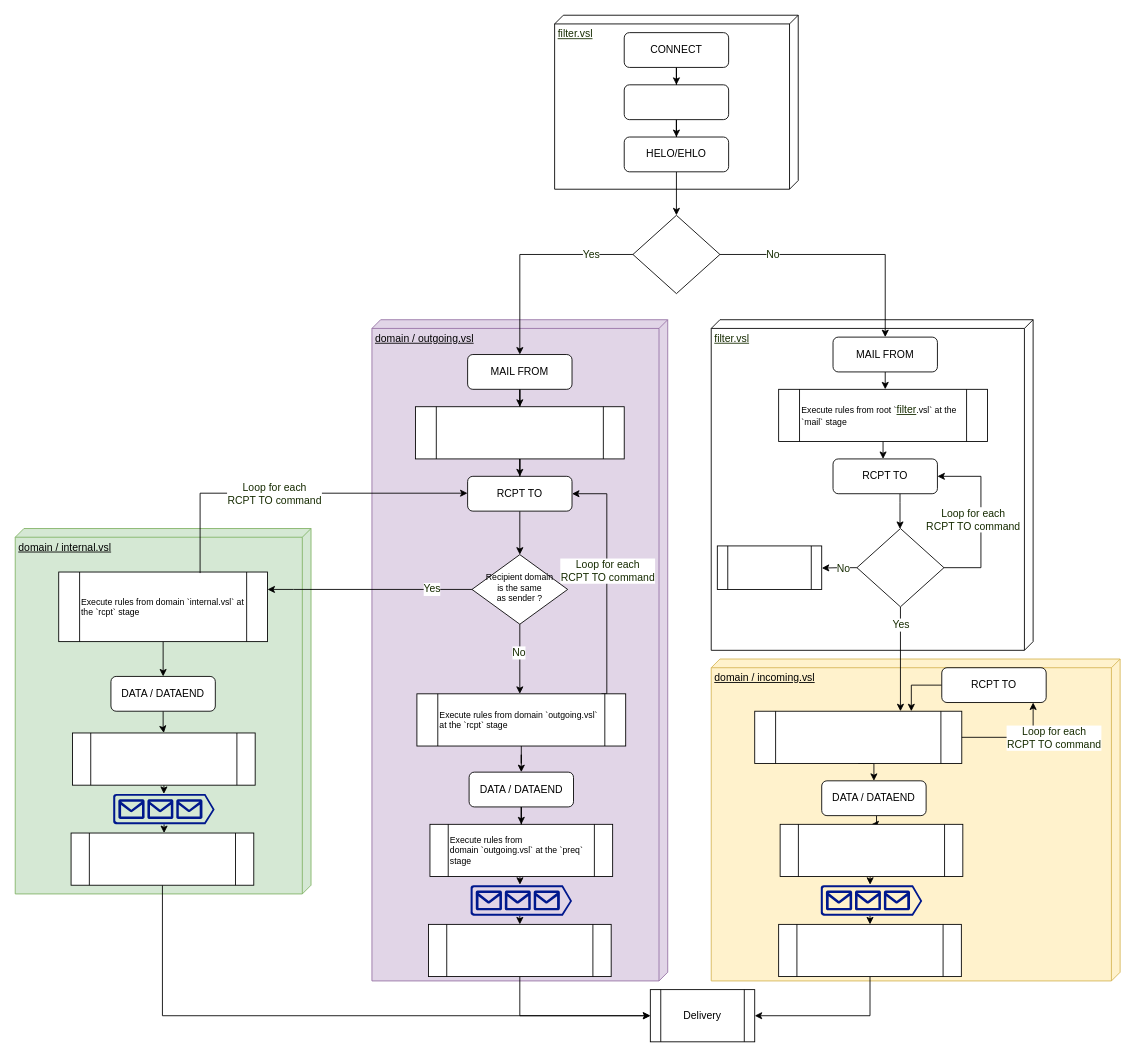
The diagram is 1135 pixels wide and 1057 high, and some of its shapes have lost their labels. Here are the shapes that lost their labels. From the top down, the centre of each, then its label:
At point (676, 102): "AUTH".
At point (676, 254): "is sender domain in configuration ?".
At point (519, 432): "Execute rules from domain `outgoing.vsl` at the `mail` stage".
At point (769, 567): "Execute rules from root ` filter .vsl` at the `rcpt` stage".
At point (900, 567): "Recipient domain in configuration ?".
At point (858, 736): "Execute rules from domain `incoming.vsl` at the `rcpt` stage".
At point (163, 758): "Execute rules from domain `internal.vsl` at the `preq` stage".
At point (162, 858): "Execute rules from domain `internal.vsl` at the `postq` and `delivery` stages".
At point (871, 850): "Execute rules from domain `incoming.vsl` at the `preq` stage".
At point (519, 950): "Execute rules from domain `outgoing.vsl` at the `postq` and `delivery` stages".
At point (869, 950): "Execute rules from domain `incoming.vsl` at the `postq` and `delivery` stages".
